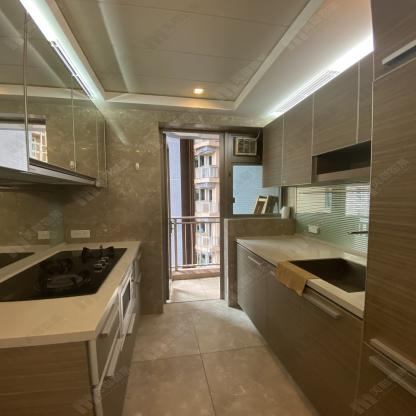Cupboard: (233, 0, 416, 416), (89, 245, 143, 416)
Exhaust Fan: (234, 136, 258, 157)
Exhaust Hood: (21, 164, 96, 185)
Microwave: (118, 260, 136, 333)
Sink: (279, 256, 367, 296)
Stove: (0, 244, 134, 307)
